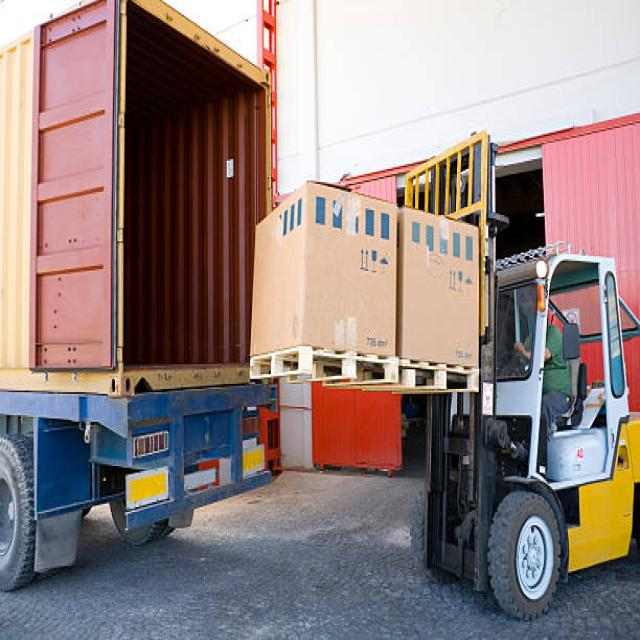Wooden-Pallets: (246, 339, 400, 406), (406, 354, 489, 422)
